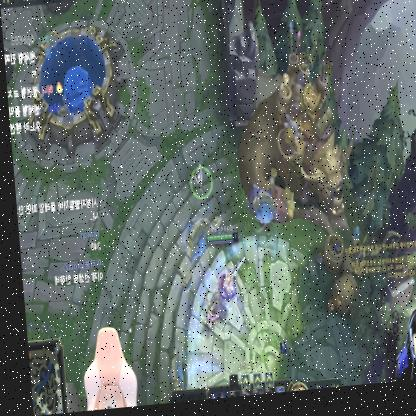streamer: (377, 314, 416, 389)
